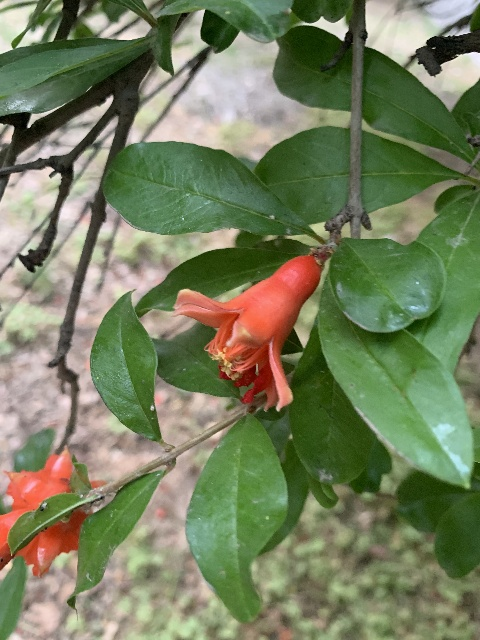flower: (172, 253, 320, 413), (0, 447, 96, 580)
